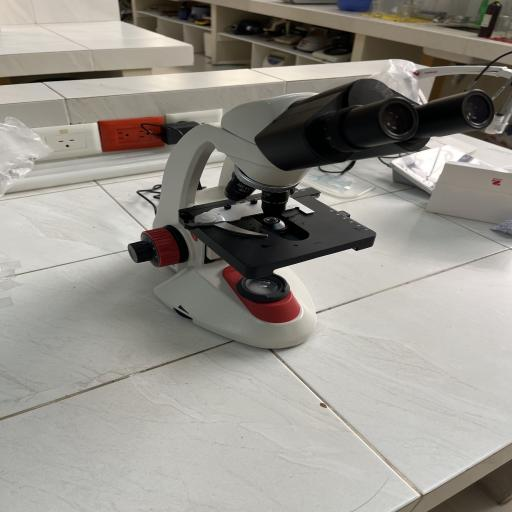Microscopio_Binocular: (117, 66, 500, 356)
